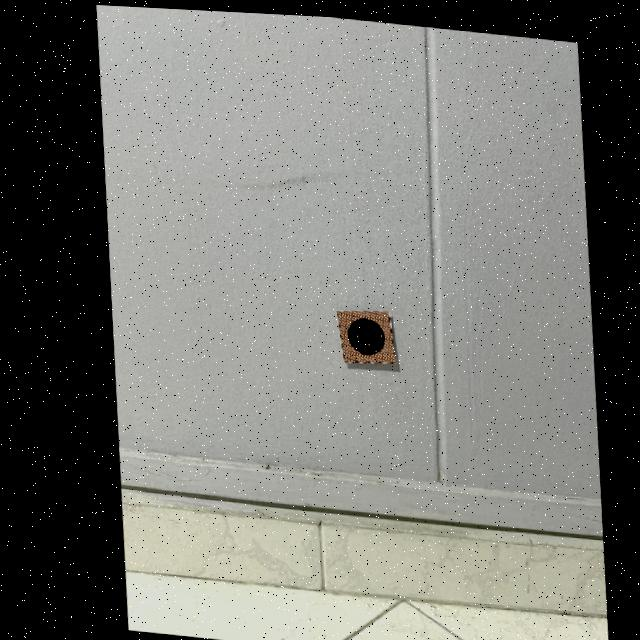CIRCLE: (341, 315, 377, 352)
